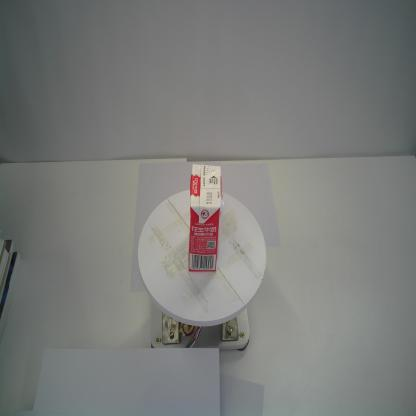Milk: (188, 164, 222, 272)
